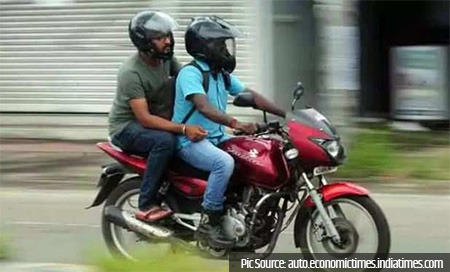bike: (93, 86, 395, 265)
